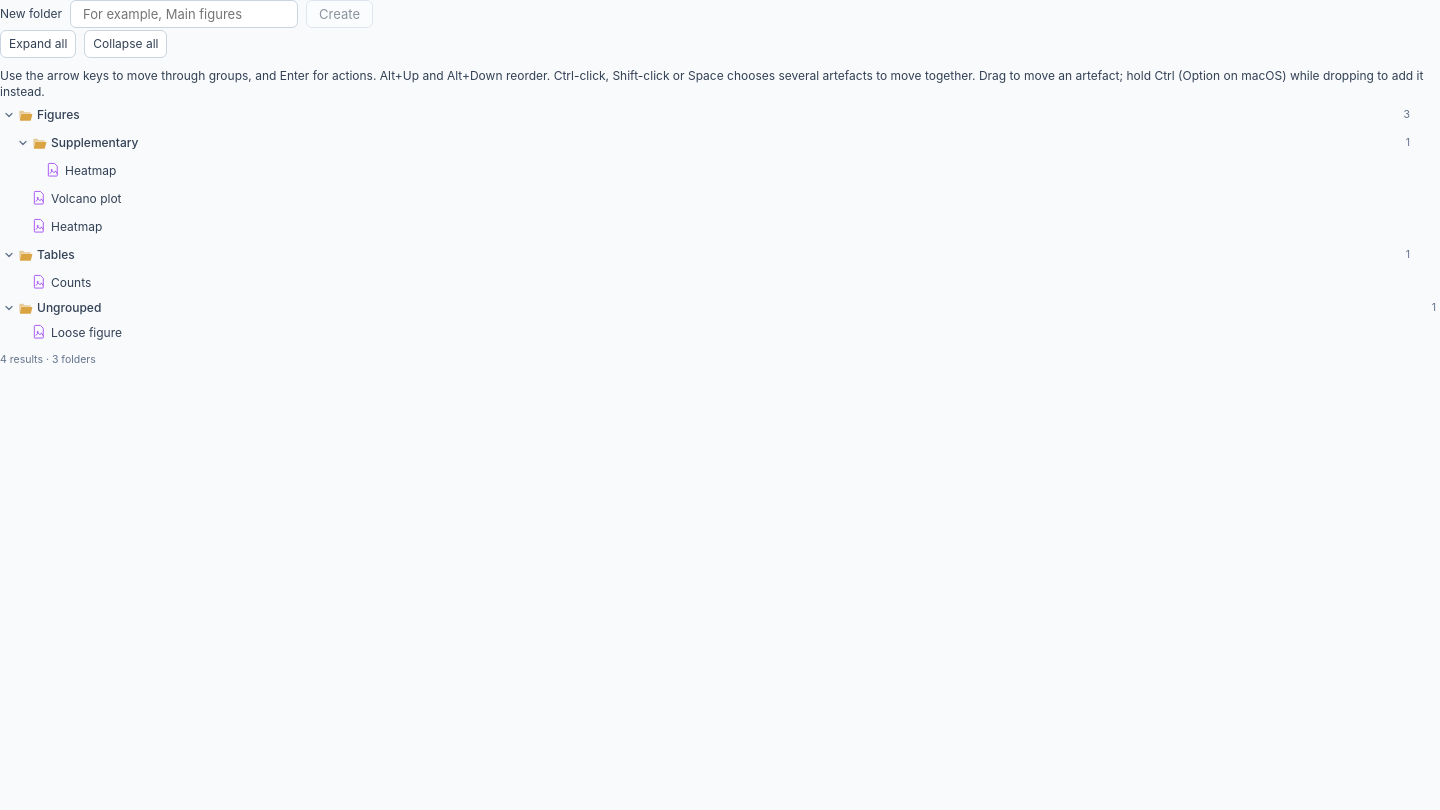
Test: ResultsTree: removing a file from the notebook › asks first, with the warning it is given, and removes nothing until confirmed
Right-click the list item "Volcano plot" at (77, 198), box [32, 190, 122, 206]
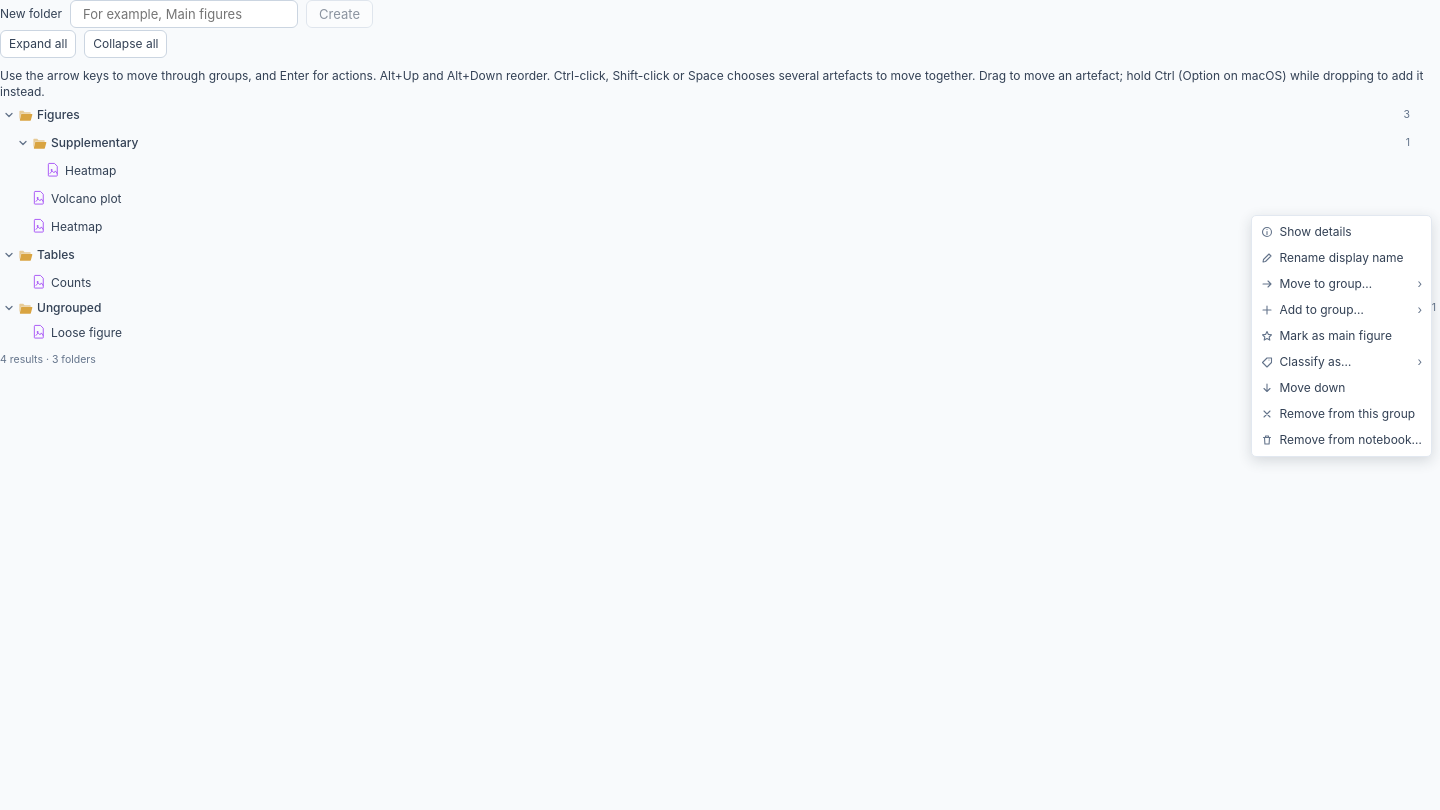
Click the menu item "Remove from notebook…" at (1342, 440), box [1256, 427, 1428, 453]
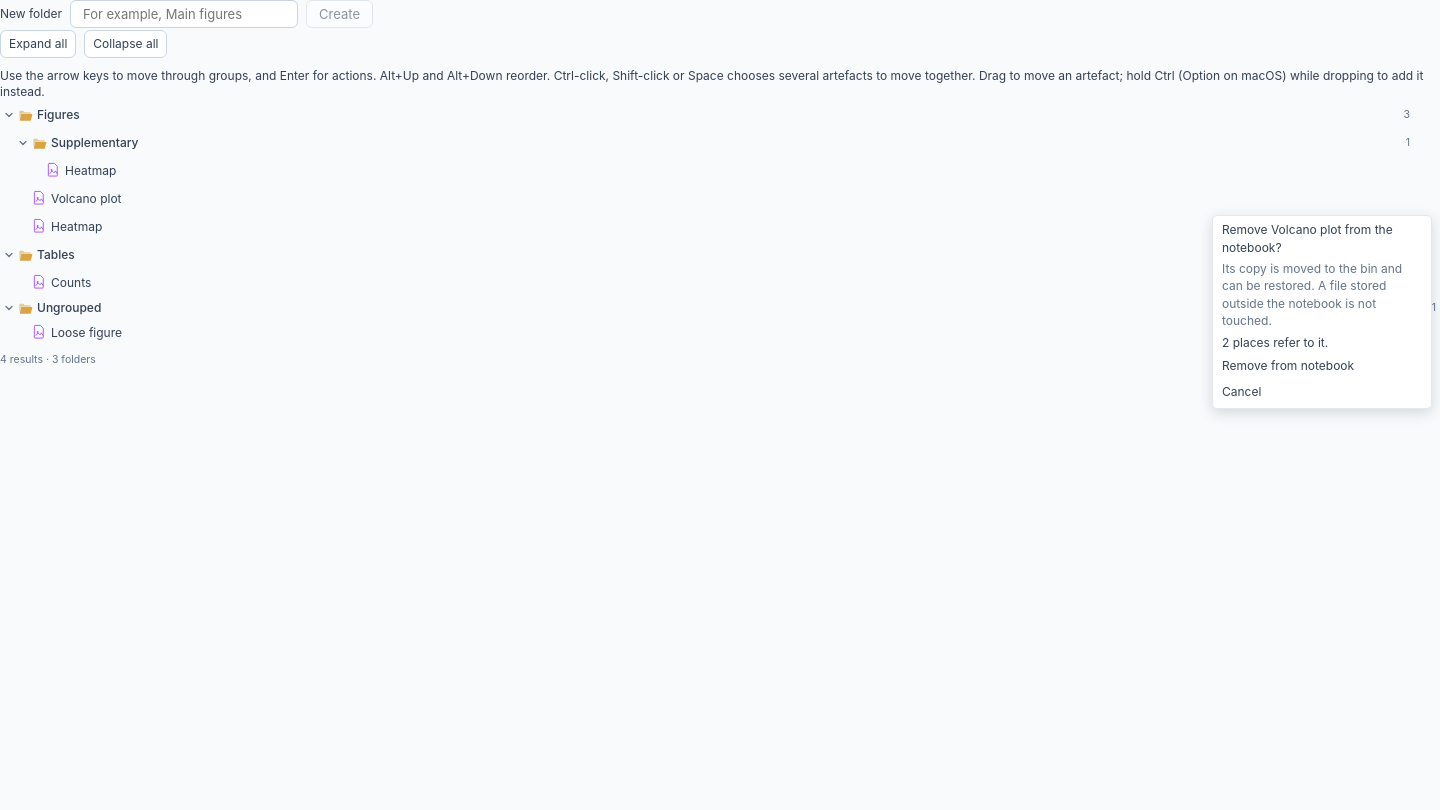
Now the text "Remove Volcano plot from the notebook?" is shown, box [1222, 222, 1393, 255]
Now the text "2 places refer to it." is shown, box [1222, 334, 1328, 350]
Now the text "can be restored" is shown, box [1222, 261, 1402, 328]
